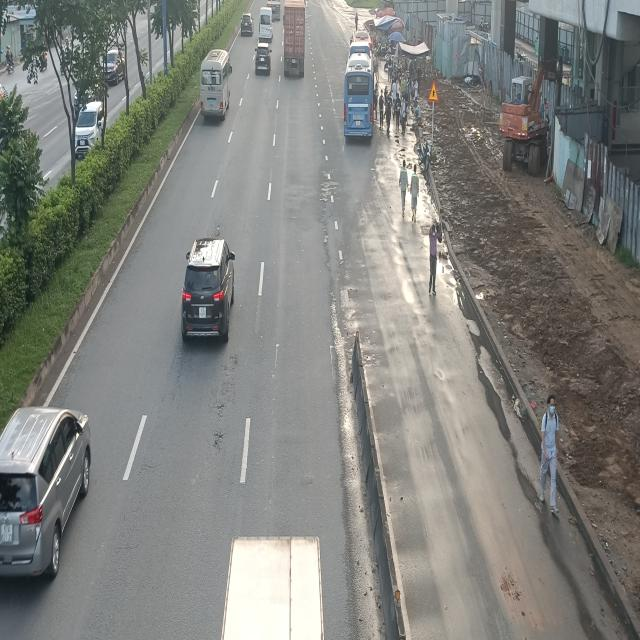car: (0, 406, 90, 584), (181, 239, 237, 344), (256, 43, 273, 77), (240, 13, 254, 37)
coach: (343, 43, 375, 144), (199, 48, 232, 119)
container: (283, 1, 306, 78)
van: (259, 7, 273, 42)
